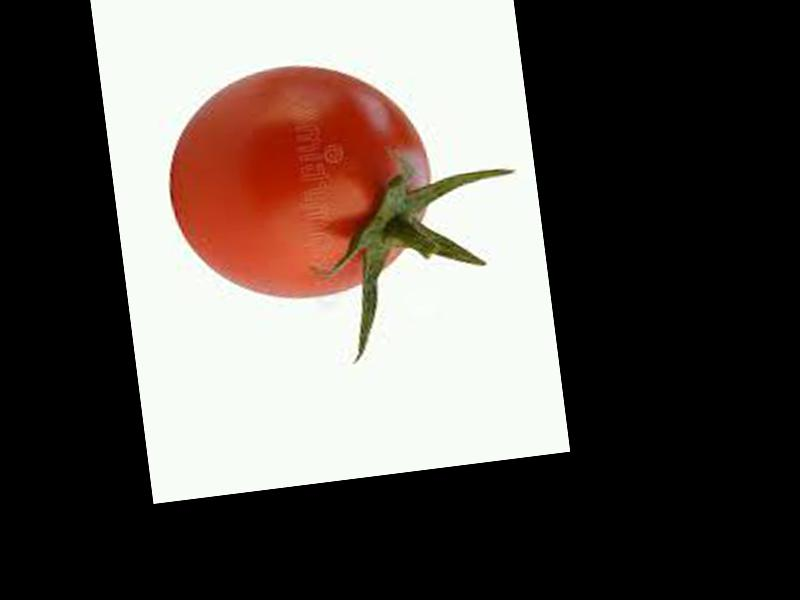Tomato: (155, 50, 441, 310)
